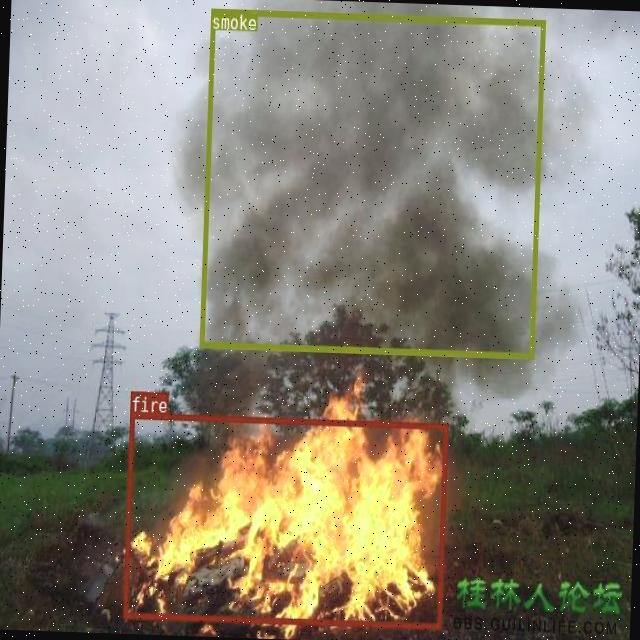fire: (121, 411, 446, 628)
smoke: (198, 8, 545, 357)
